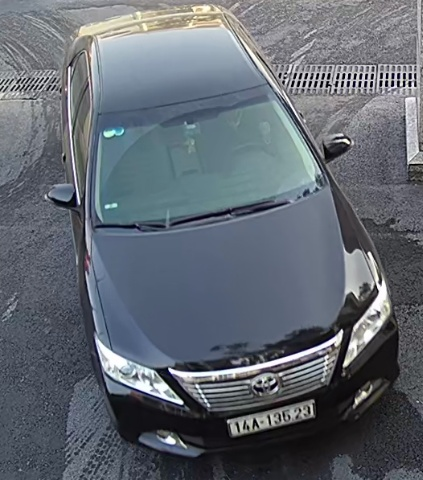vehicle plate: (223, 398, 338, 433)
